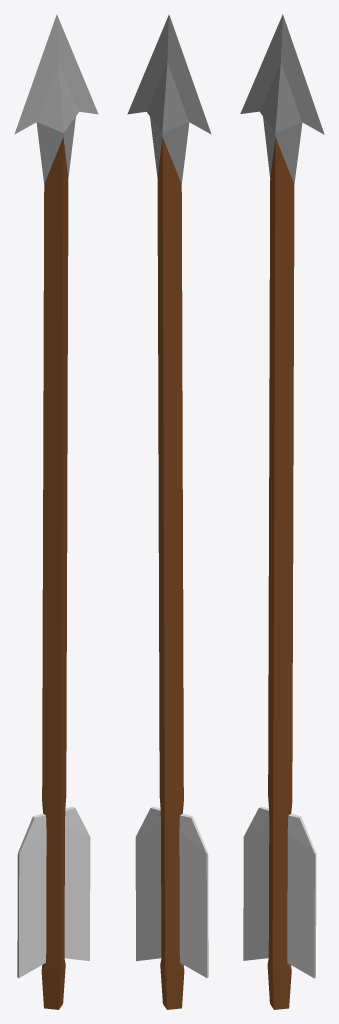
File: Low Poly Weapon Pack - by Kickin It Studios.fbx_Broadhead_Arrow.glb
3 views of the same model, side by side, from view 1: azimuth 30°, elevation 25°; view 2: azimuth 150°, elevation 25°; view 3: azimuth 330°, elevation 25° (orthographic).
Visible parts, largest first — view 1: Broadhead Arrow; view 2: Broadhead Arrow; view 3: Broadhead Arrow.
Boxes of the visible parts, bbox=[...] form: Broadhead Arrow: bbox=[14, 14, 98, 1009]; Broadhead Arrow: bbox=[127, 14, 211, 1009]; Broadhead Arrow: bbox=[240, 14, 324, 1009].
Bounding box in the file's own units: 0.0731 × 0.8201 × 0.0215.
